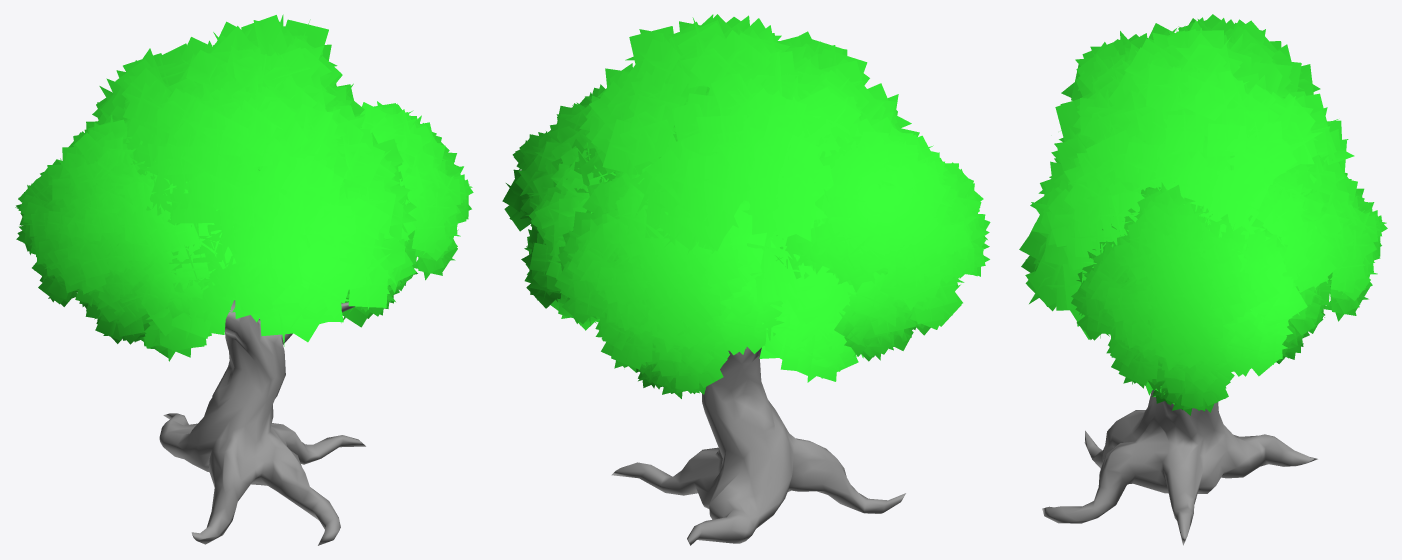
The model's file is Part1_tree1_low.fbx.
The picture shows the model from 3 angles, left to right: view 1: azimuth 30°, elevation 25°; view 2: azimuth 150°, elevation 25°; view 3: azimuth 270°, elevation 25°; orthographic projection. The views are drawn at different scales.
Parts seen in each view (by area): view 1: tree1_leaf, tree1_low; view 2: tree1_leaf, tree1_low; view 3: tree1_leaf, tree1_low.
Part boxes in pixels (left/top/right/bottom): tree1_leaf: left=15, top=14, right=473, bottom=361; tree1_low: left=159, top=300, right=365, bottom=545; tree1_leaf: left=502, top=14, right=990, bottom=398; tree1_low: left=611, top=347, right=905, bottom=545; tree1_leaf: left=1019, top=14, right=1387, bottom=415; tree1_low: left=1042, top=390, right=1317, bottom=545.
Size of the model in its own units: 970 by 1019 by 703.
